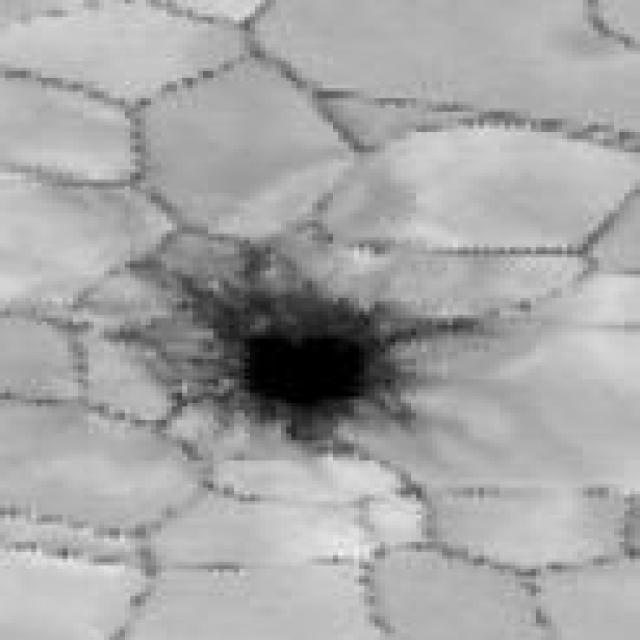good_void: (109, 244, 502, 461)
